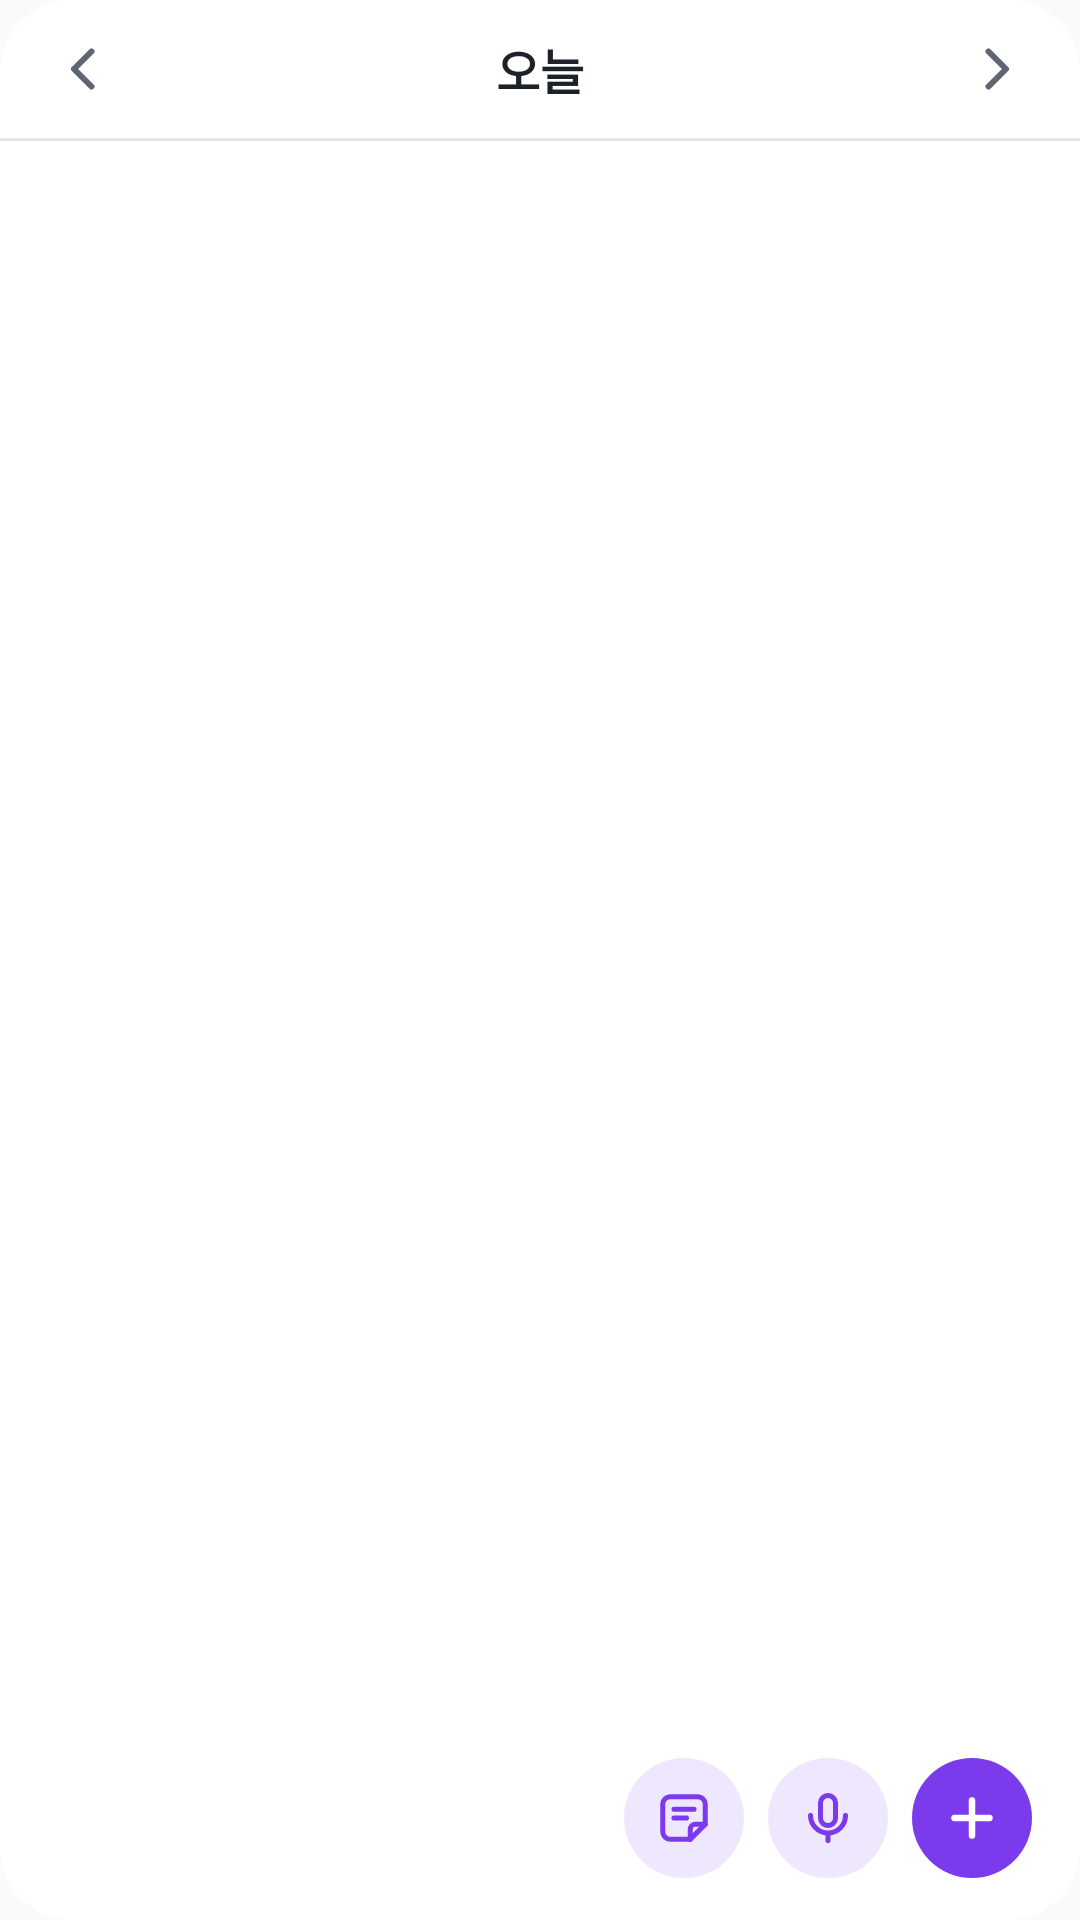

Named icons in this screenshot (1080*1920) and their centers, [x,y]:
widget memo: [684,1818]
widget mic: [828,1818]
widget next: [997,69]
widget plus: [972,1818]
widget prev: [83,69]
